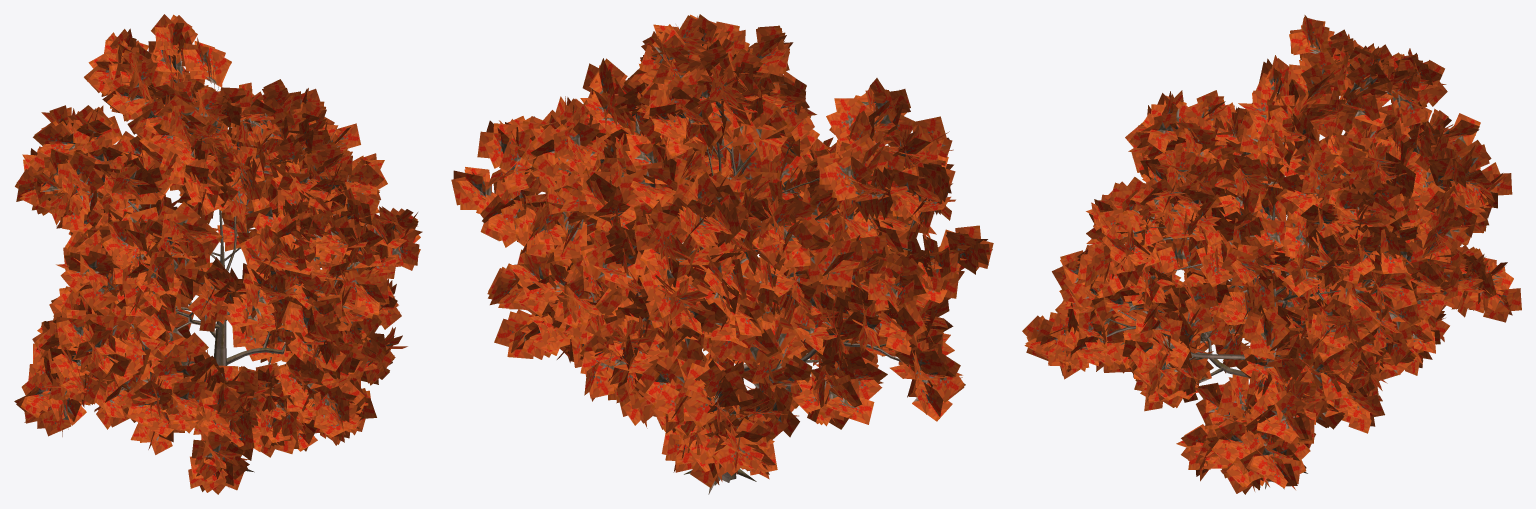
The model's file is maple-fall-balanced.gltf.
The picture shows the model from 3 angles, left to right: view 1: azimuth 30°, elevation 25°; view 2: azimuth 150°, elevation 25°; view 3: azimuth 270°, elevation 25°; orthographic projection. The views are drawn at different scales.
Visible parts, largest first — view 1: Sugar Maple balanced Fall; view 2: Sugar Maple balanced Fall; view 3: Sugar Maple balanced Fall.
Boxes of the visible parts, x1,y1,x2,y2 form: Sugar Maple balanced Fall: (14, 14, 422, 494); Sugar Maple balanced Fall: (451, 14, 993, 494); Sugar Maple balanced Fall: (1022, 15, 1521, 494).
Bounding box in the file's own units: 949 × 953 × 998.
Materials: 2 (2 with a texture image).
